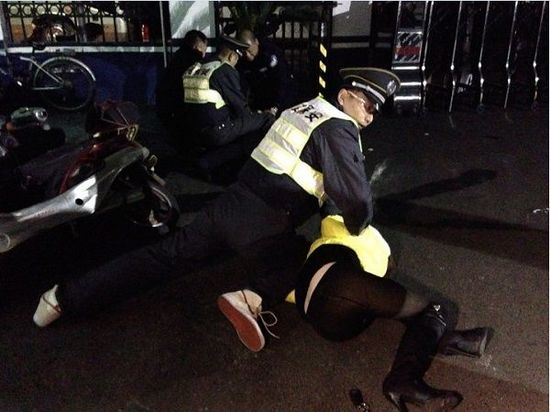fall: (277, 196, 504, 400)
